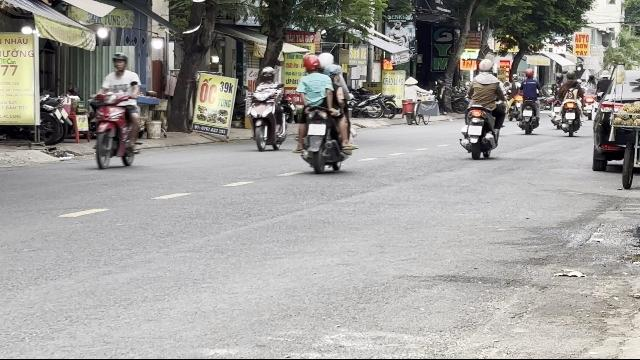helmet: (323, 65, 345, 83), (110, 52, 128, 72), (302, 54, 320, 72), (478, 58, 494, 74), (318, 52, 334, 68), (260, 66, 274, 82)
licenseplate: (308, 124, 326, 136), (468, 124, 482, 136)
motorcyclist: (292, 52, 356, 172), (84, 52, 144, 170), (459, 58, 505, 160), (246, 66, 286, 152)
